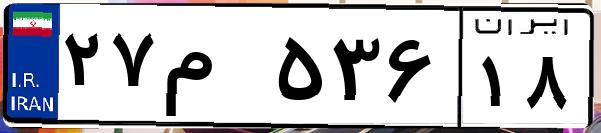1: (475, 38, 525, 113)
2: (57, 26, 110, 100)
3: (330, 28, 385, 110)
5: (270, 28, 330, 110)
6: (385, 28, 445, 110)
7: (110, 28, 158, 98)
8: (525, 38, 570, 115)
م: (158, 20, 270, 120)
